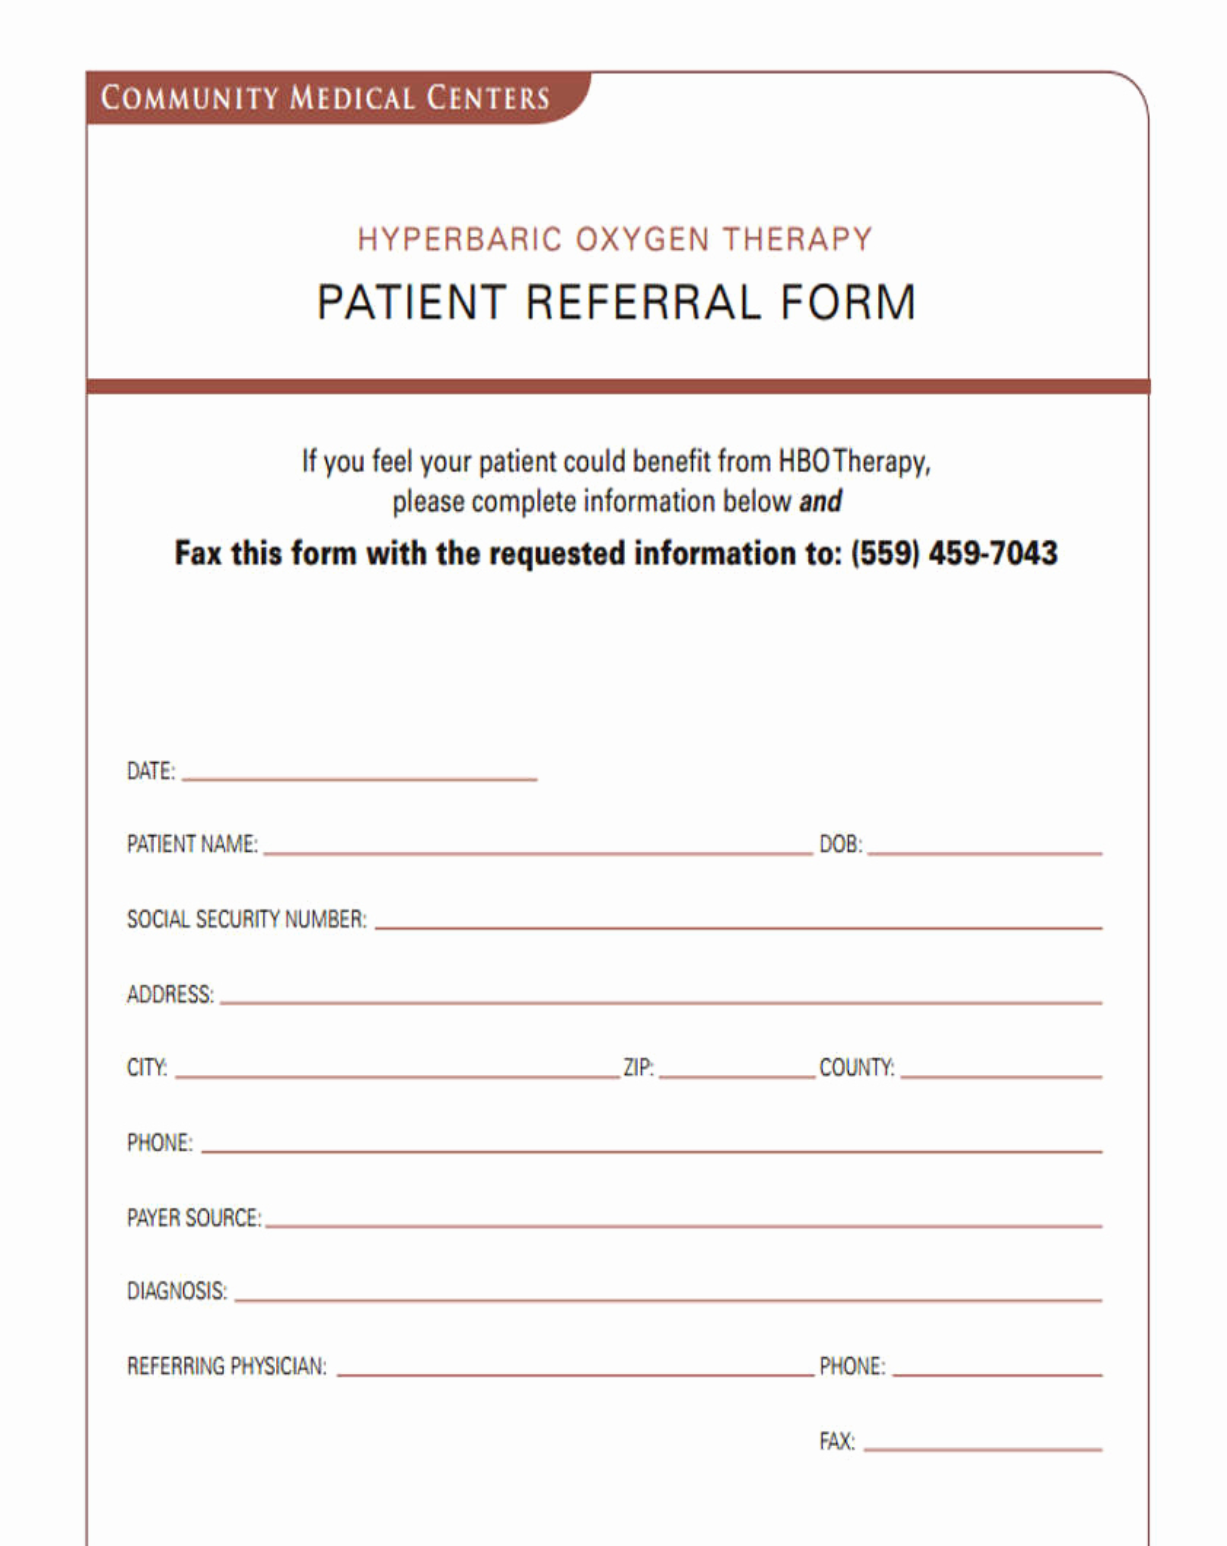textline: (196, 1111, 1114, 1166), (216, 961, 1117, 1011), (228, 1260, 1115, 1309), (258, 1190, 1115, 1240), (369, 888, 1114, 936), (332, 1331, 822, 1385), (257, 819, 821, 863), (171, 1045, 622, 1085), (862, 1403, 1115, 1463), (174, 750, 544, 788), (888, 1336, 1113, 1390), (861, 819, 1114, 865), (897, 1042, 1110, 1085), (652, 1044, 822, 1090)
